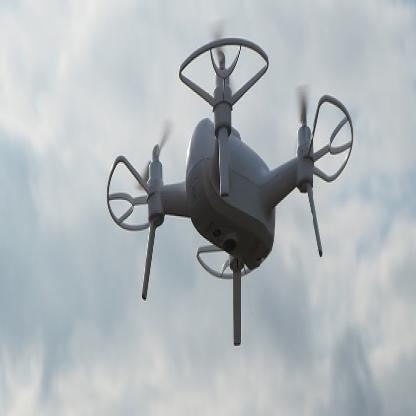drone: (107, 31, 356, 327)
